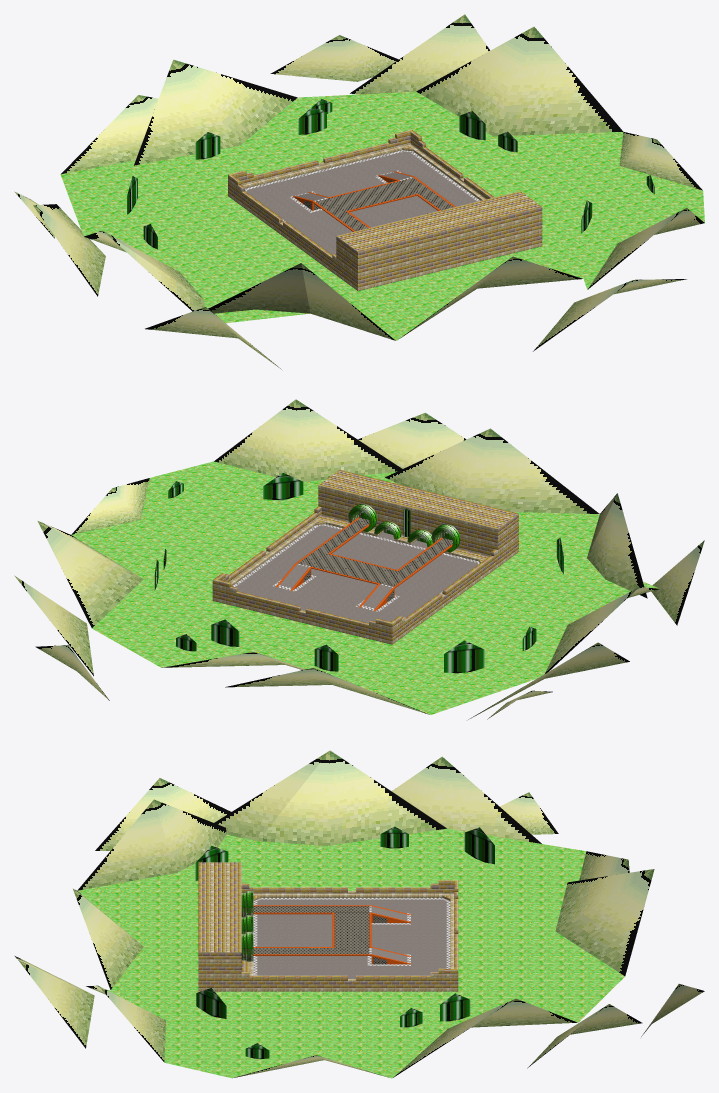
The picture shows the model from 3 angles, top to bottom: view 1: azimuth 30°, elevation 25°; view 2: azimuth 150°, elevation 25°; view 3: azimuth 270°, elevation 25°; orthographic projection. The views are drawn at different scales.
Parts seen in each view (by area): view 1: course_model -col; view 2: course_model -col; view 3: course_model -col.
Part boxes in pixels (bbox=[...]): course_model -col: bbox=[14, 14, 704, 369]; course_model -col: bbox=[14, 399, 704, 719]; course_model -col: bbox=[15, 750, 704, 1078].
Size of the model in its own units: 259 by 36.7 by 274.
9 materials, 9 textured.
